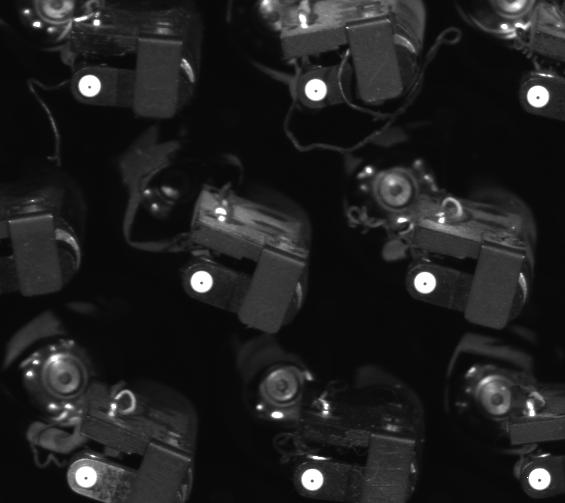fiber: (184, 264, 224, 301), (407, 266, 445, 300), (71, 70, 109, 102), (524, 461, 559, 495), (520, 80, 554, 112), (301, 74, 332, 106), (70, 463, 102, 490), (296, 466, 327, 493)
